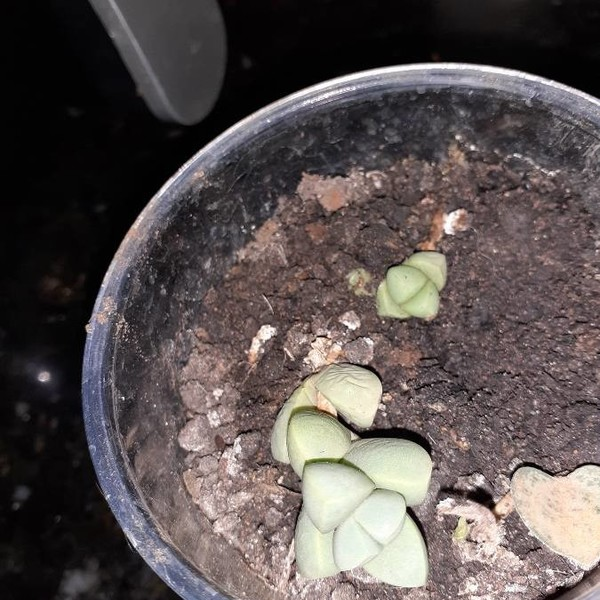obstacle: (69, 66, 568, 593)
